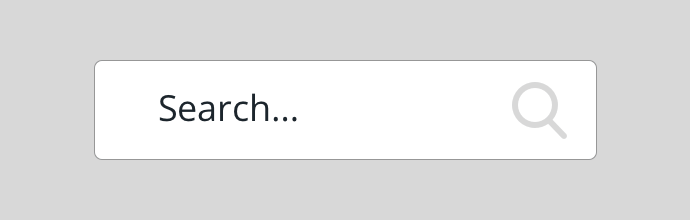search_box: (96, 62, 595, 160)
